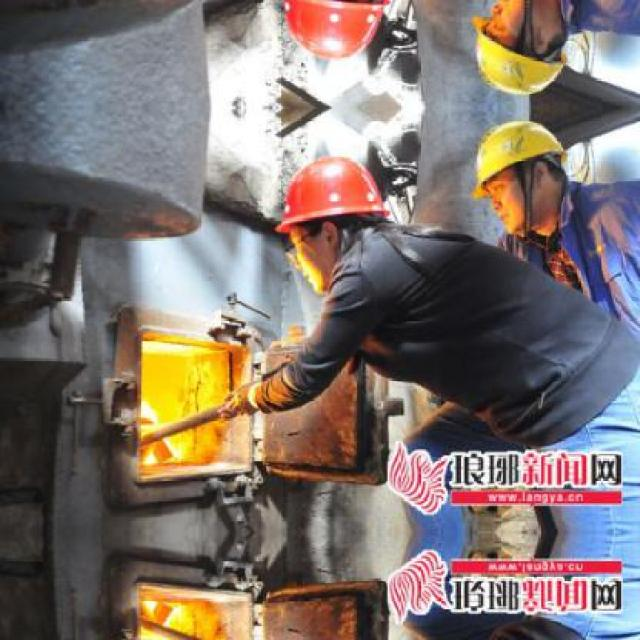helmet: (275, 148, 393, 283), (462, 110, 578, 236), (462, 0, 578, 105), (274, 0, 394, 66)
